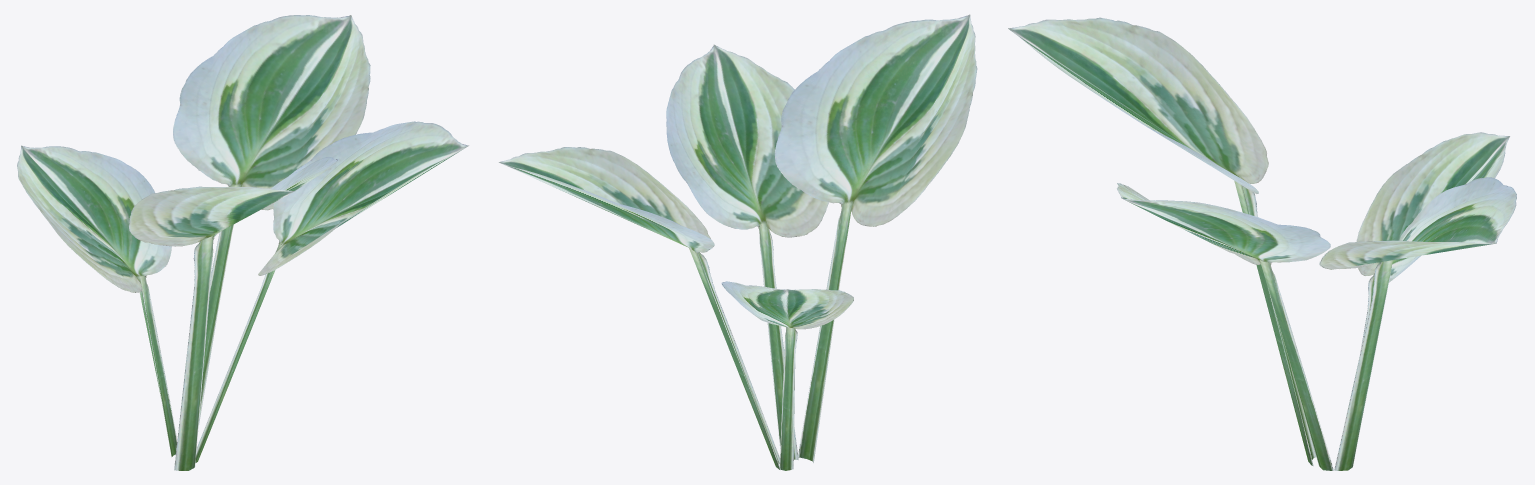
The model's file is plant_small_wg_01C.fbx.
The picture shows the model from 3 angles, left to right: view 1: azimuth 30°, elevation 25°; view 2: azimuth 150°, elevation 25°; view 3: azimuth 270°, elevation 25°; orthographic projection. The views are drawn at different scales.
Visible parts, largest first — view 1: plant_small_wg_01C; view 2: plant_small_wg_01C; view 3: plant_small_wg_01C.
Boxes of the visible parts, left/top/right/bottom form: plant_small_wg_01C: left=17, top=15, right=468, bottom=470; plant_small_wg_01C: left=499, top=14, right=977, bottom=470; plant_small_wg_01C: left=1008, top=17, right=1516, bottom=470.
Size of the model in its own units: 46.01 by 47.51 by 53.25.
